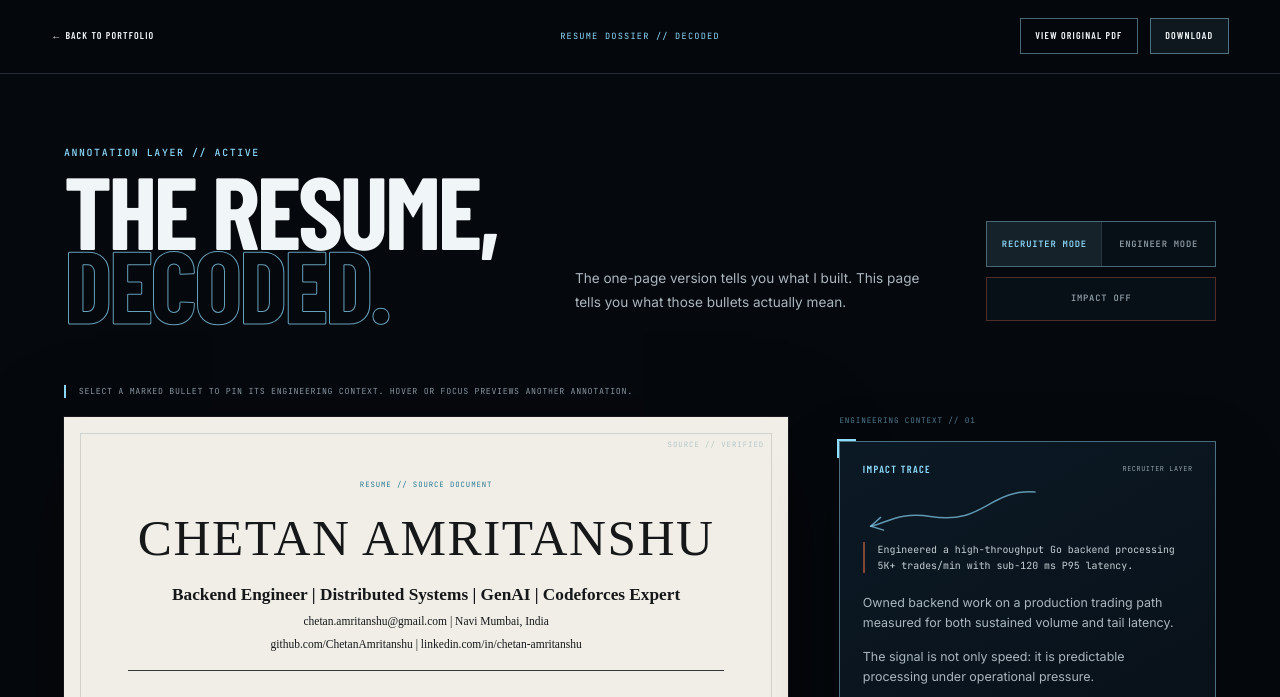
ResumeDossier › surfaces verified metrics when impact mode is enabled
Click the button "Impact off": (1101, 298) [986, 276, 1216, 320]
(page scrolled)
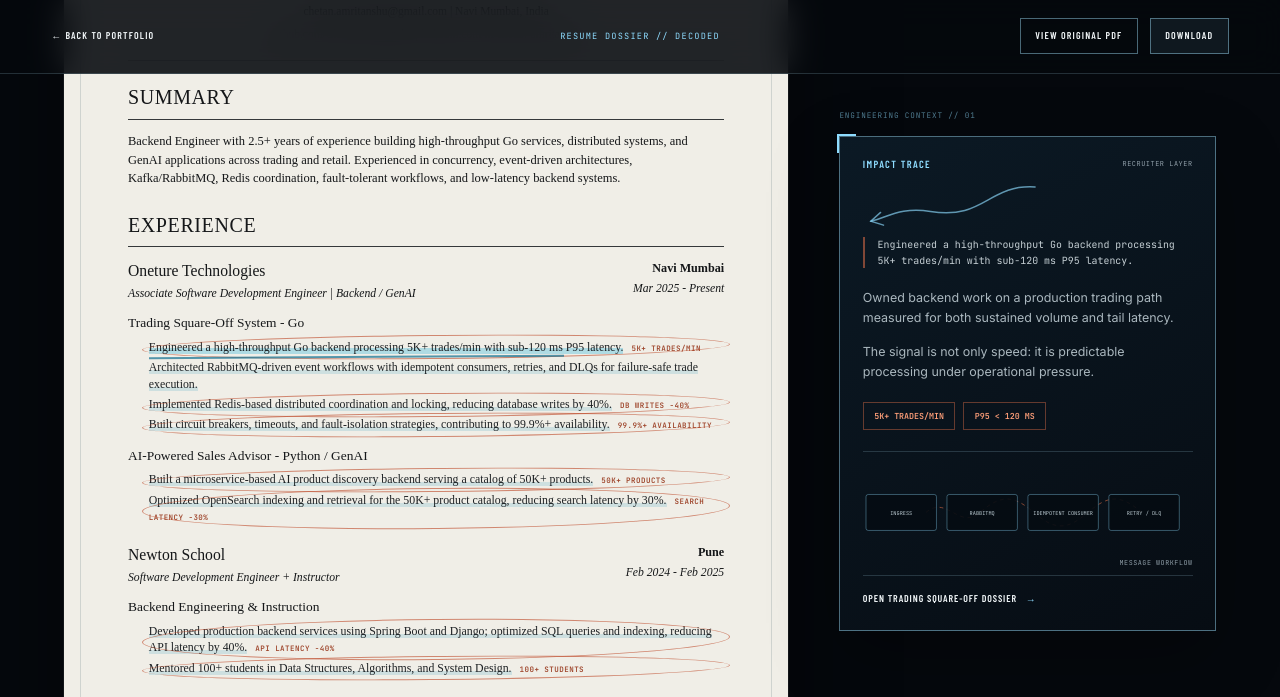
Expected: the text "5K+ trades/min" is shown, [631, 343, 701, 353]
